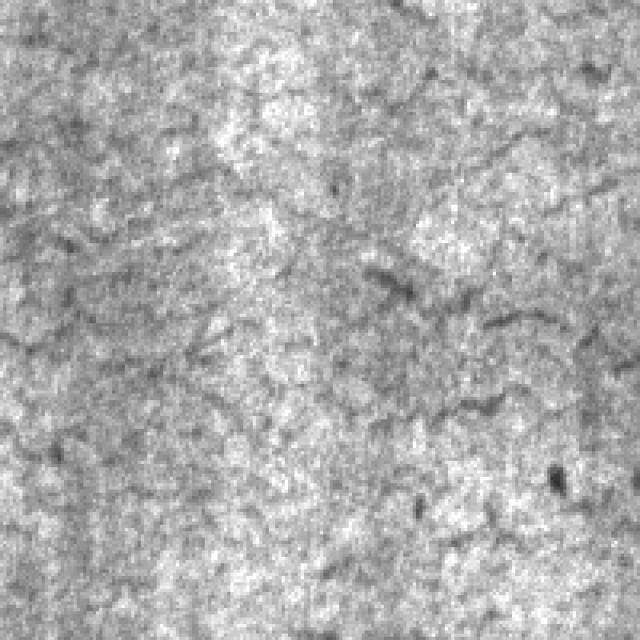crazing: (0, 214, 595, 518), (0, 3, 637, 205)
